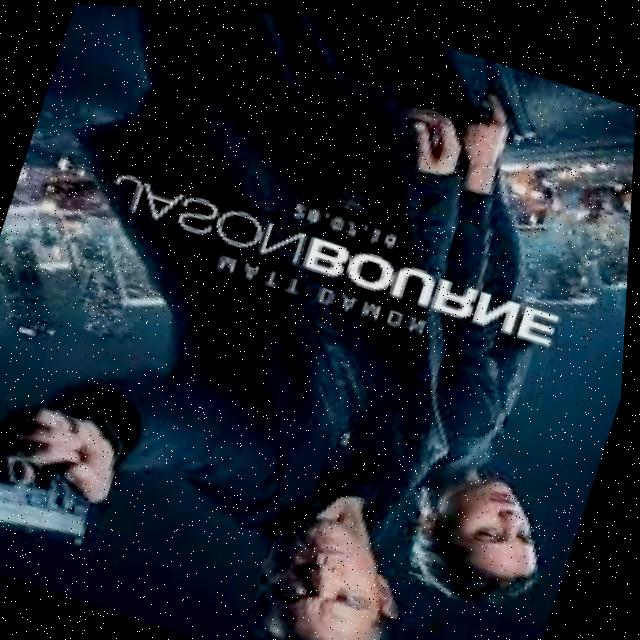pistol: (0, 435, 112, 569), (456, 51, 558, 148)
